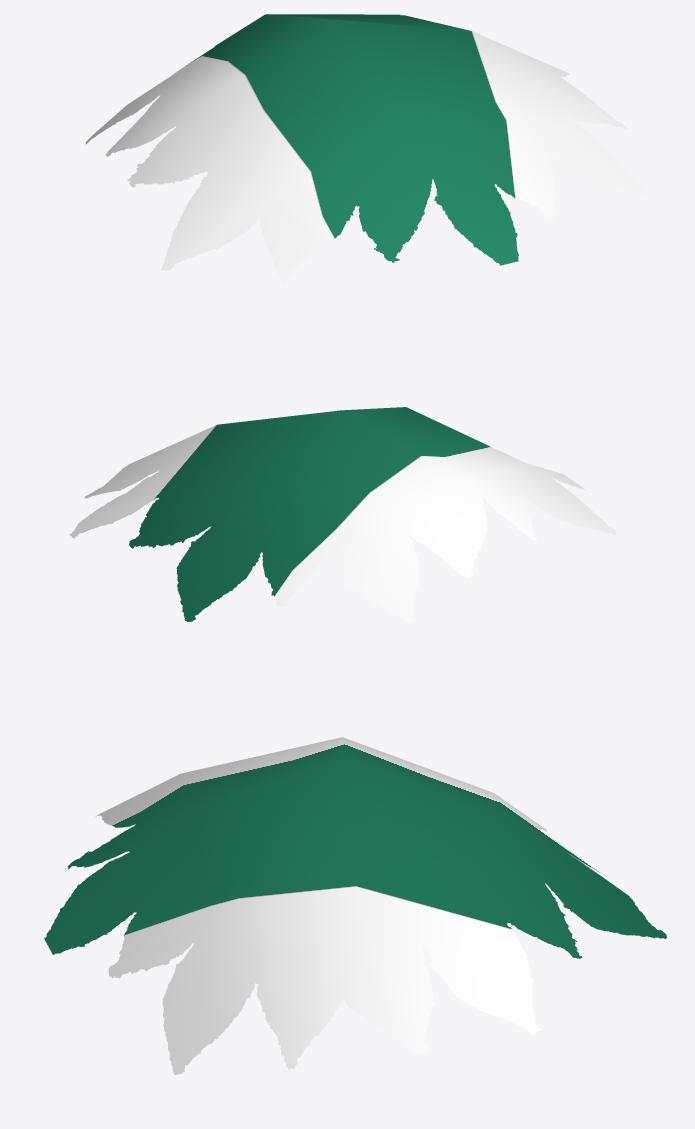
The model's file is Arbol nuevo.fbx.
3 views of the same model, one above another, from view 1: azimuth 30°, elevation 25°; view 2: azimuth 150°, elevation 25°; view 3: azimuth 270°, elevation 25° (orthographic). The views are drawn at different scales.
Visible parts, largest first — view 1: Leaves007; view 2: Leaves007; view 3: Leaves007.
Part boxes in pixels (x1,y1,x2,y2): Leaves007: (85,14,647,281); Leaves007: (69,407,615,623); Leaves007: (44,737,667,1074).
Bounding box in the file's own units: 23.09 × 8.16 × 21.15.
